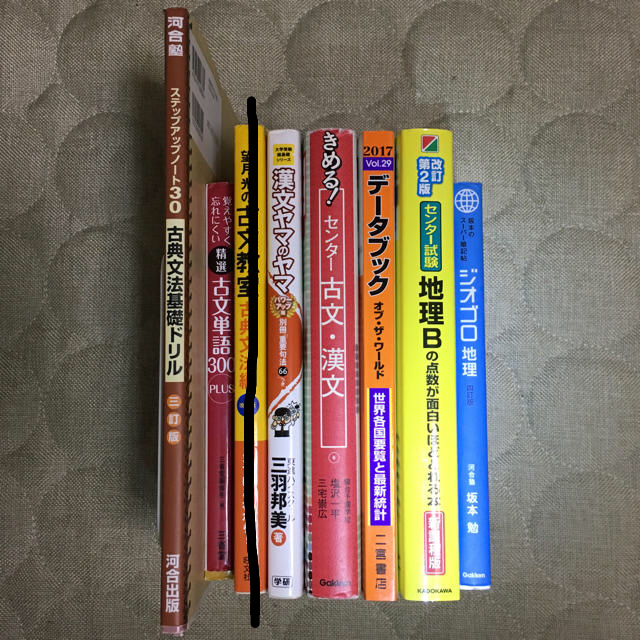book: (392, 126, 464, 607), (300, 126, 364, 605), (354, 125, 403, 605), (262, 122, 309, 600), (158, 4, 191, 637), (450, 177, 494, 595), (231, 121, 268, 599), (203, 179, 237, 575)
